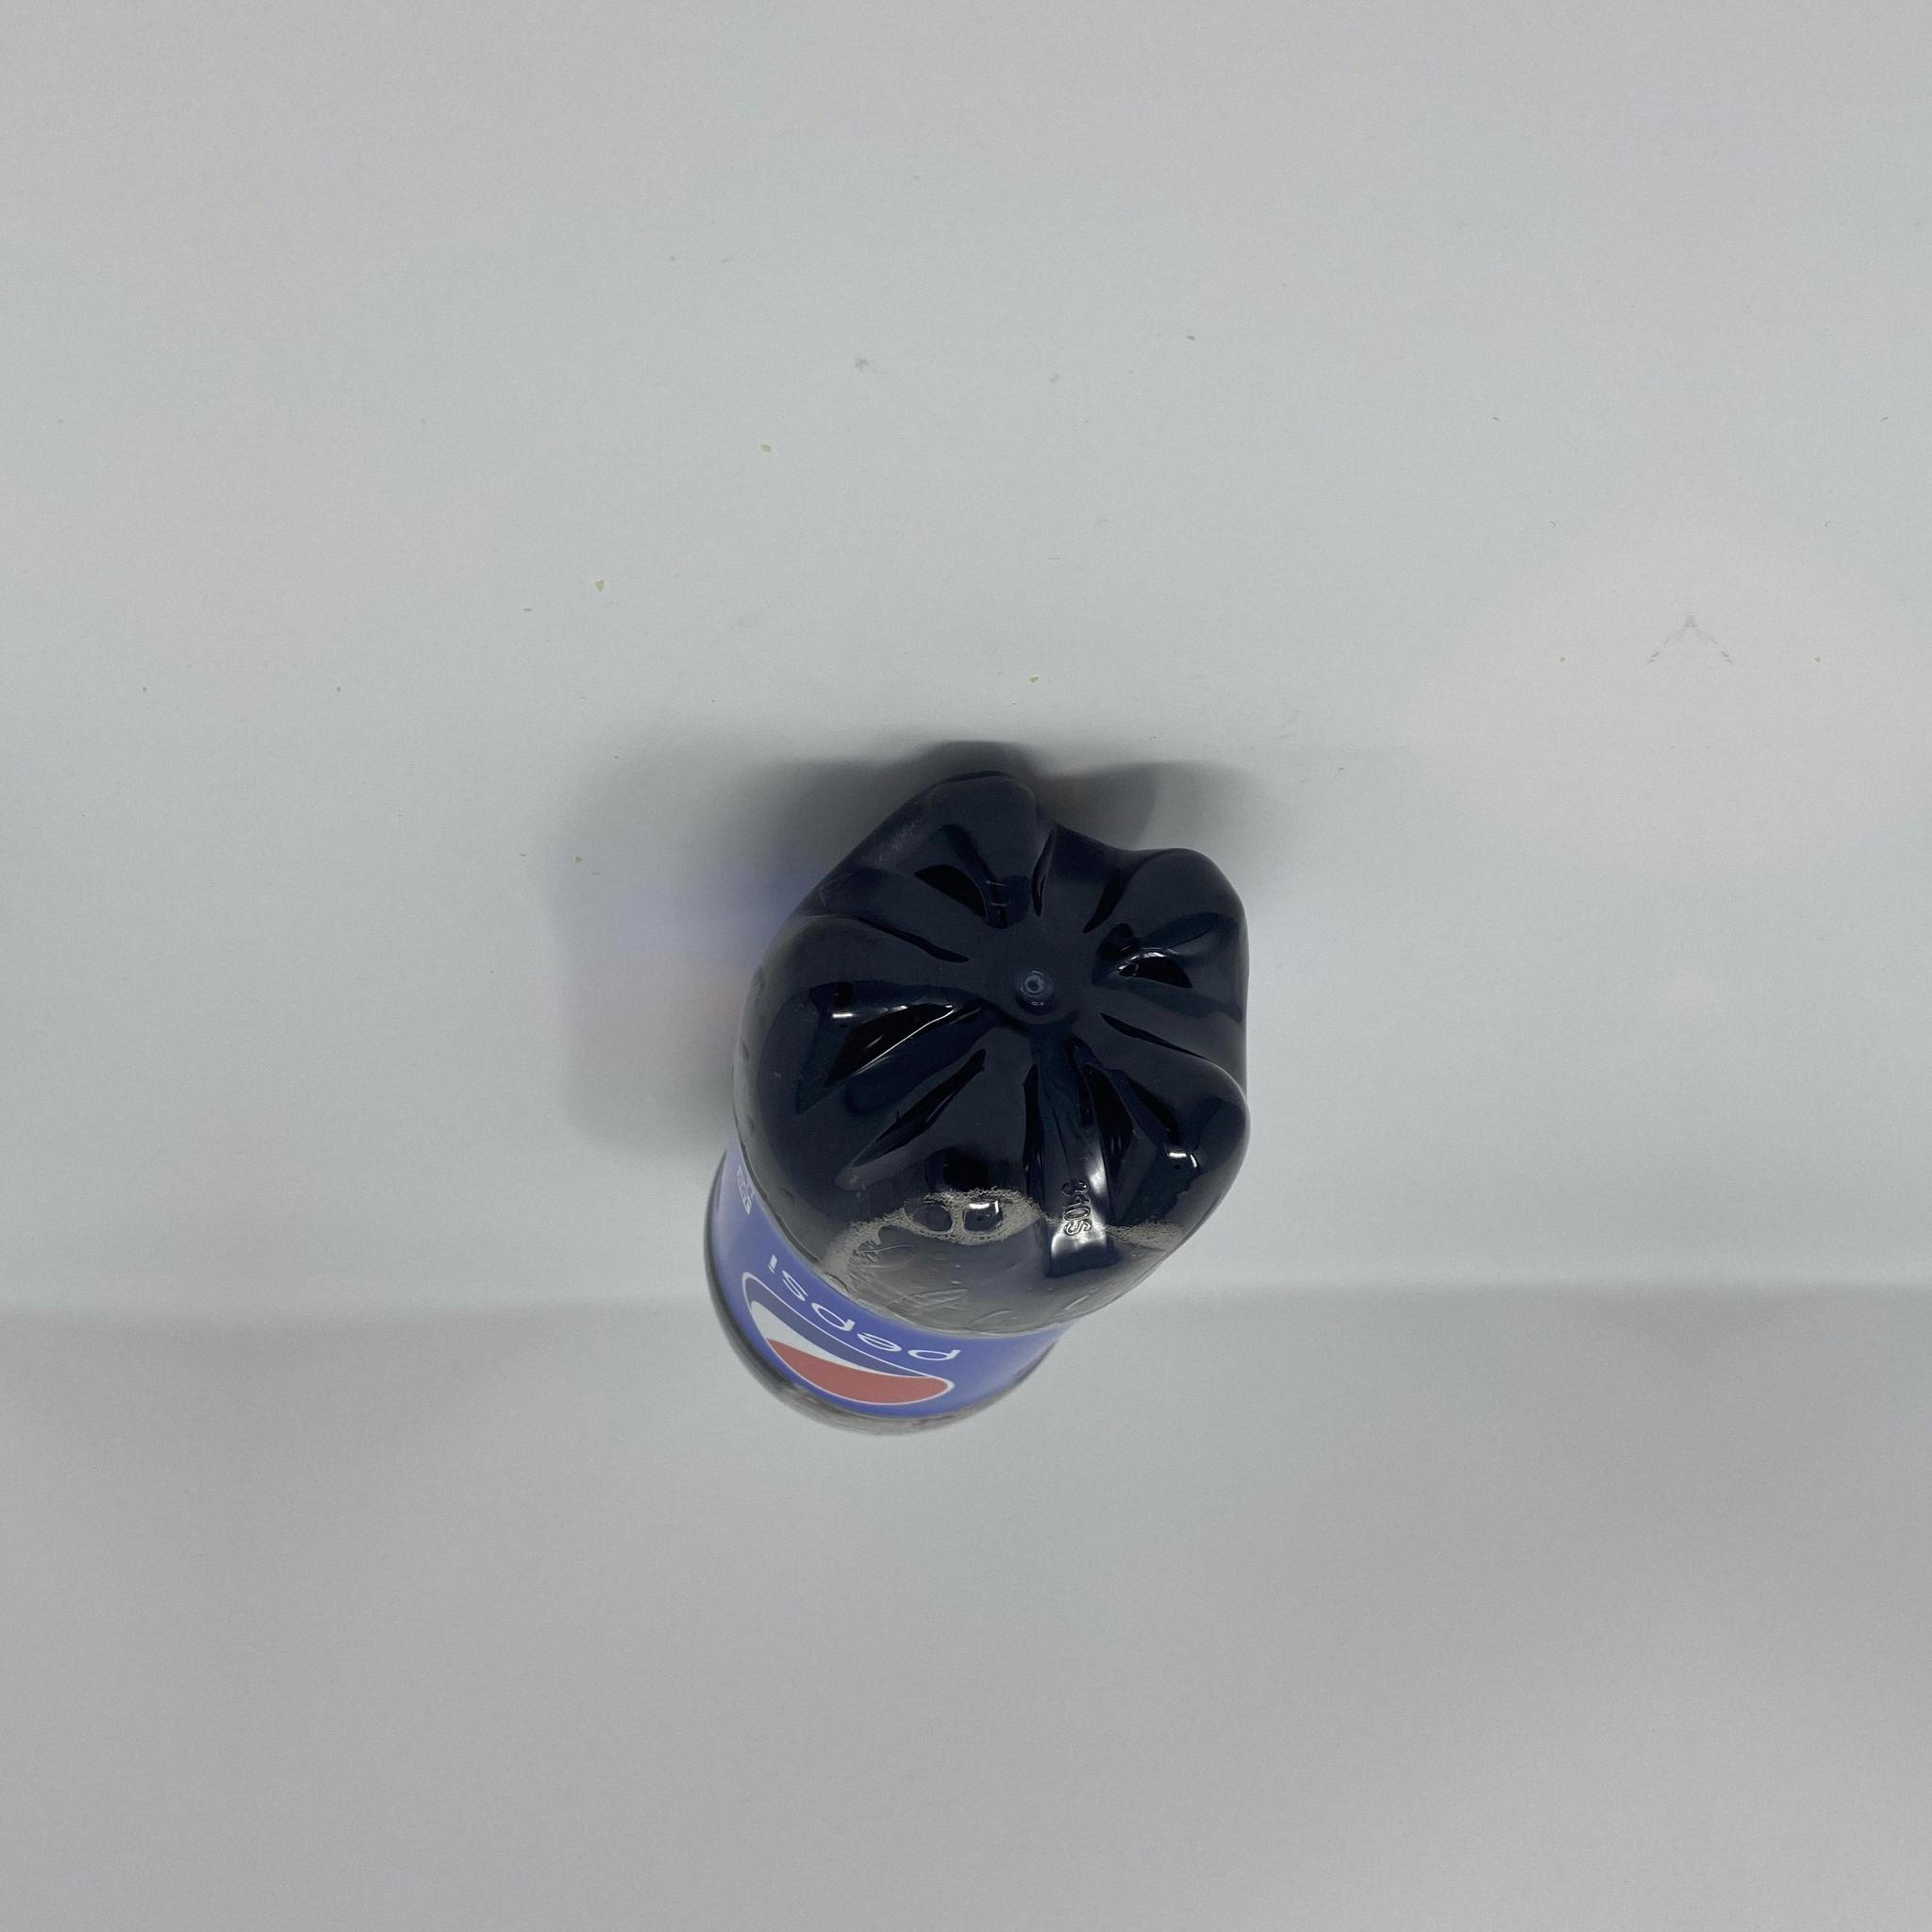PET: (702, 766, 1253, 1433)
pepsi: (702, 766, 1253, 1433)
plastic: (702, 766, 1253, 1433)
soft-drink: (702, 766, 1253, 1433)
